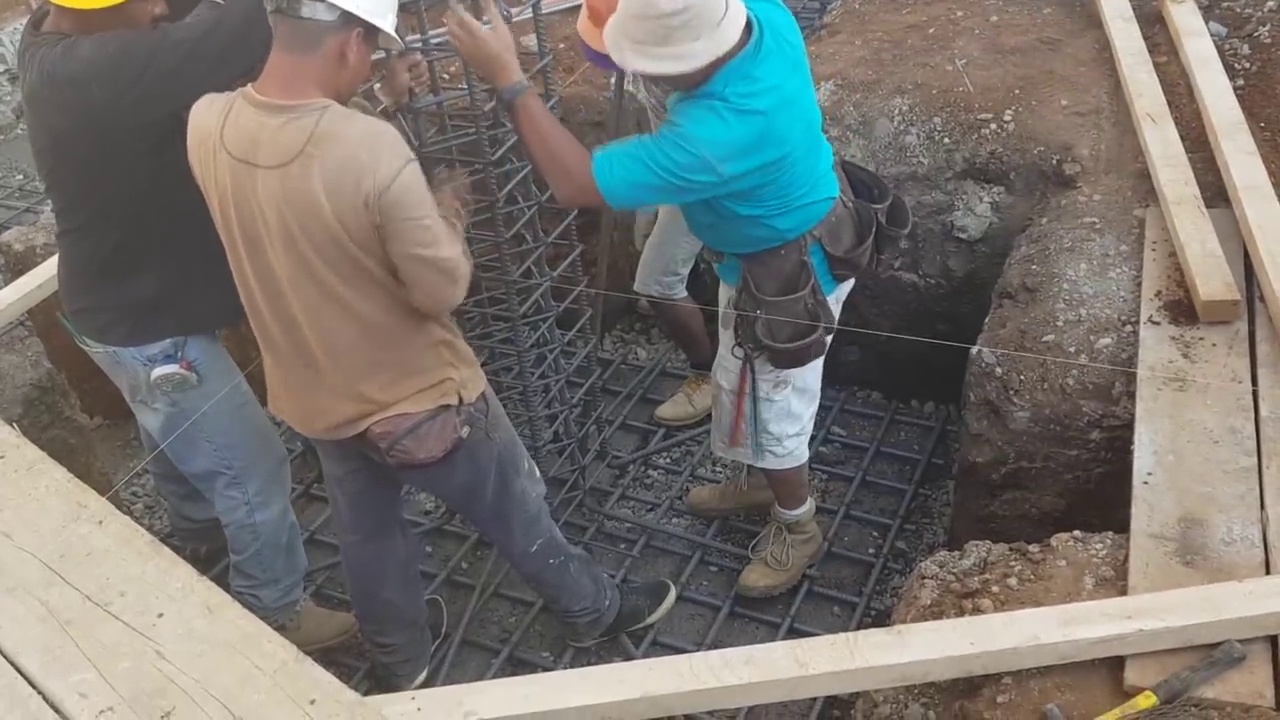helmet: (326, 2, 406, 52)
helmet-off: (602, 3, 760, 100)
helmet-on: (246, 2, 405, 105)
person: (187, 0, 682, 696), (455, 0, 872, 608), (19, 0, 356, 651)
